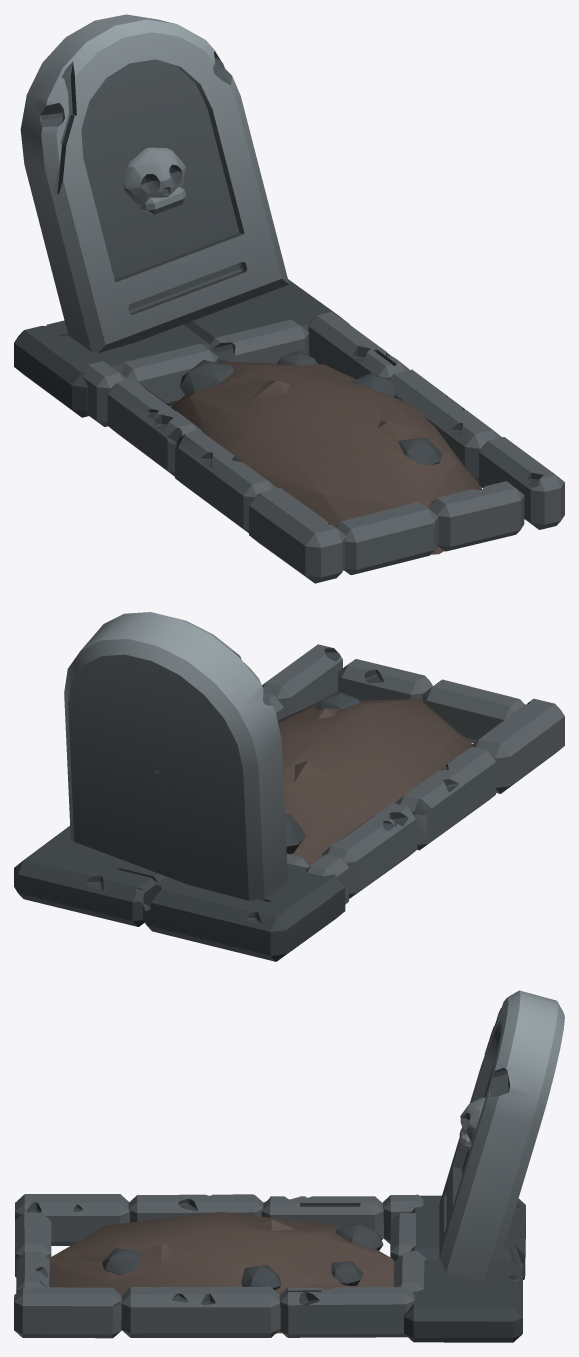
Rendered from grave_leaning.glb.
3 renders of one model, top to bottom at view 1: azimuth 30°, elevation 25°; view 2: azimuth 150°, elevation 25°; view 3: azimuth 270°, elevation 25°, orthographic. The views are drawn at different scales.
Parts seen in each view (by area): view 1: grave_leaning; view 2: grave_leaning; view 3: grave_leaning.
Boxes of the visible parts, box(x1,y1,x2,y2) form: grave_leaning: box(14, 14, 564, 583); grave_leaning: box(14, 612, 564, 961); grave_leaning: box(14, 990, 564, 1342).
Size of the model in its own units: 1.4 by 1.57 by 2.81.
Materials: 1 (1 with a texture image).
